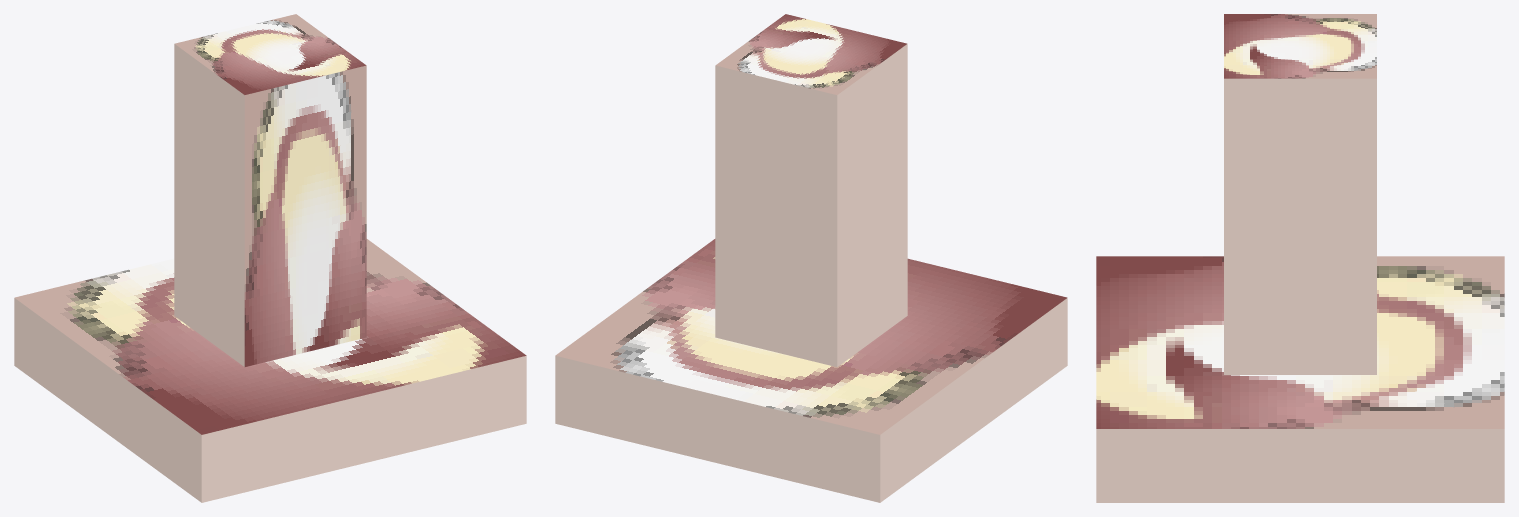
The model's file is Building_Fleshbulb.glb.
3 views of the same model, side by side, from view 1: azimuth 30°, elevation 25°; view 2: azimuth 150°, elevation 25°; view 3: azimuth 270°, elevation 25° (orthographic). The views are drawn at different scales.
Visible parts, largest first — view 1: Fleshbulb; view 2: Fleshbulb; view 3: Fleshbulb.
Part boxes in pixels (bbox=[...]): Fleshbulb: bbox=[14, 14, 526, 502]; Fleshbulb: bbox=[555, 14, 1067, 502]; Fleshbulb: bbox=[1096, 14, 1504, 502].
Size of the model in its own units: 0.8 by 0.8 by 0.8.
Materials: 1 (1 with a texture image).
